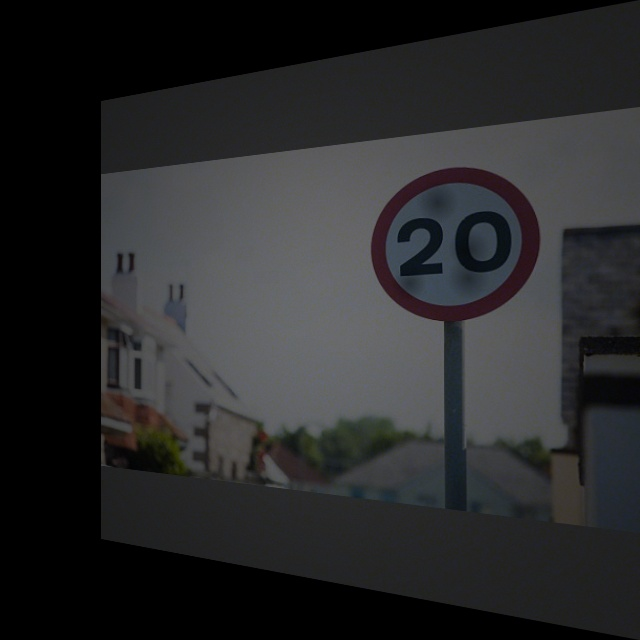Speed_Limit_20: (373, 162, 535, 319)
